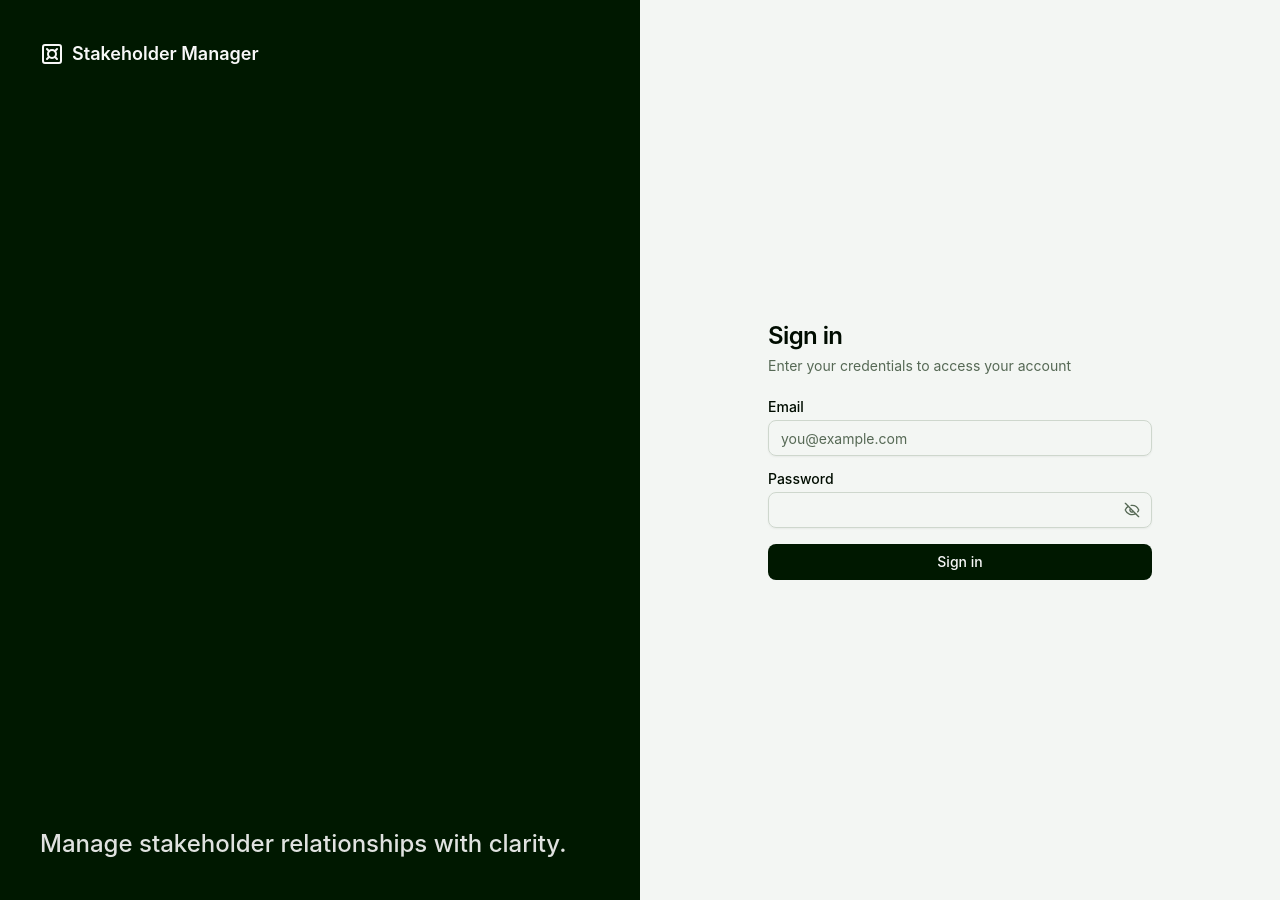
it: LoginPage › displays the error message when login rejects with an Error
Type "bad@example.com" into the field labelled "Email". click: (960, 438)
box: [768,420,1152,456]
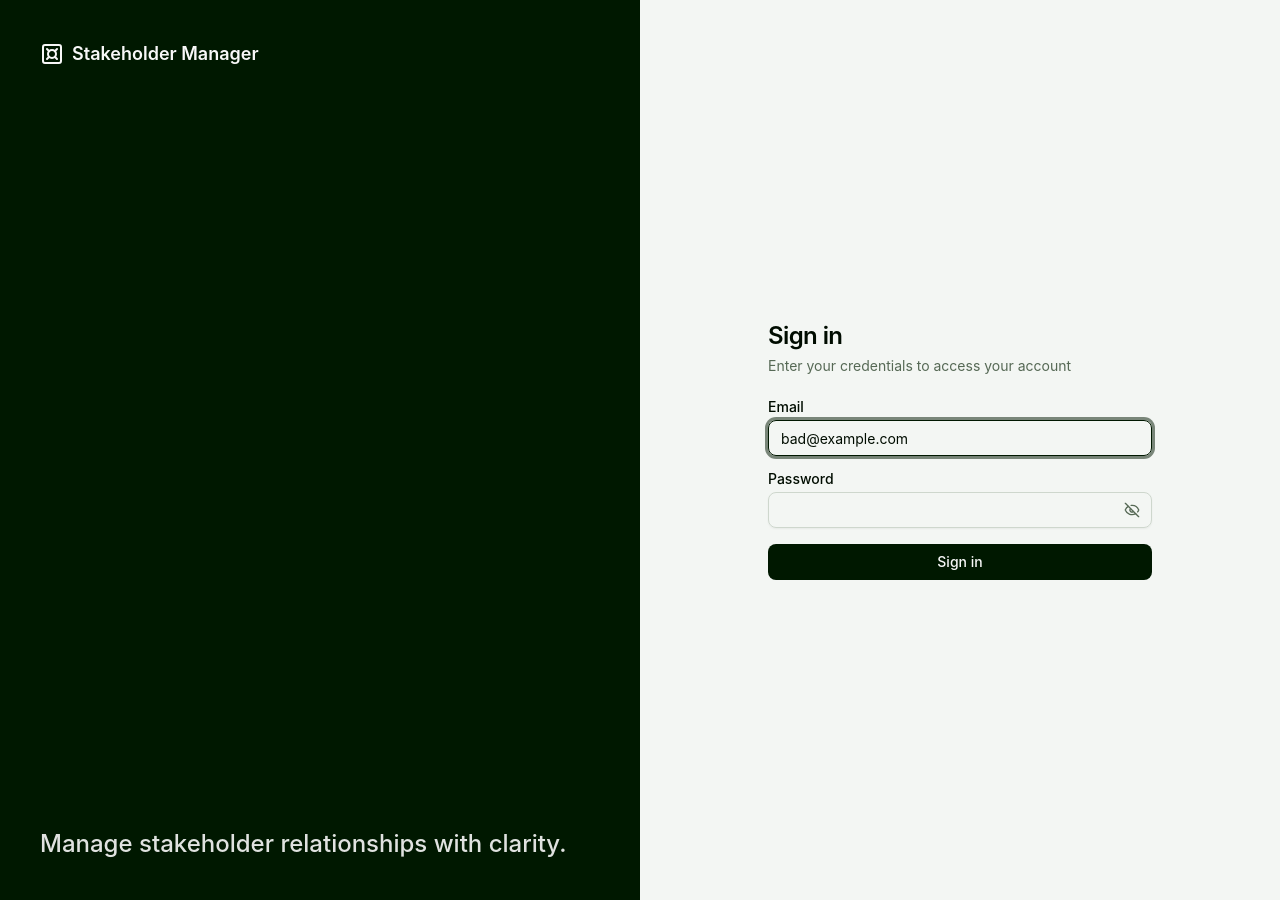
Type "wrong" into the password field labelled "Password". click: (960, 510)
box: [768,492,1152,528]
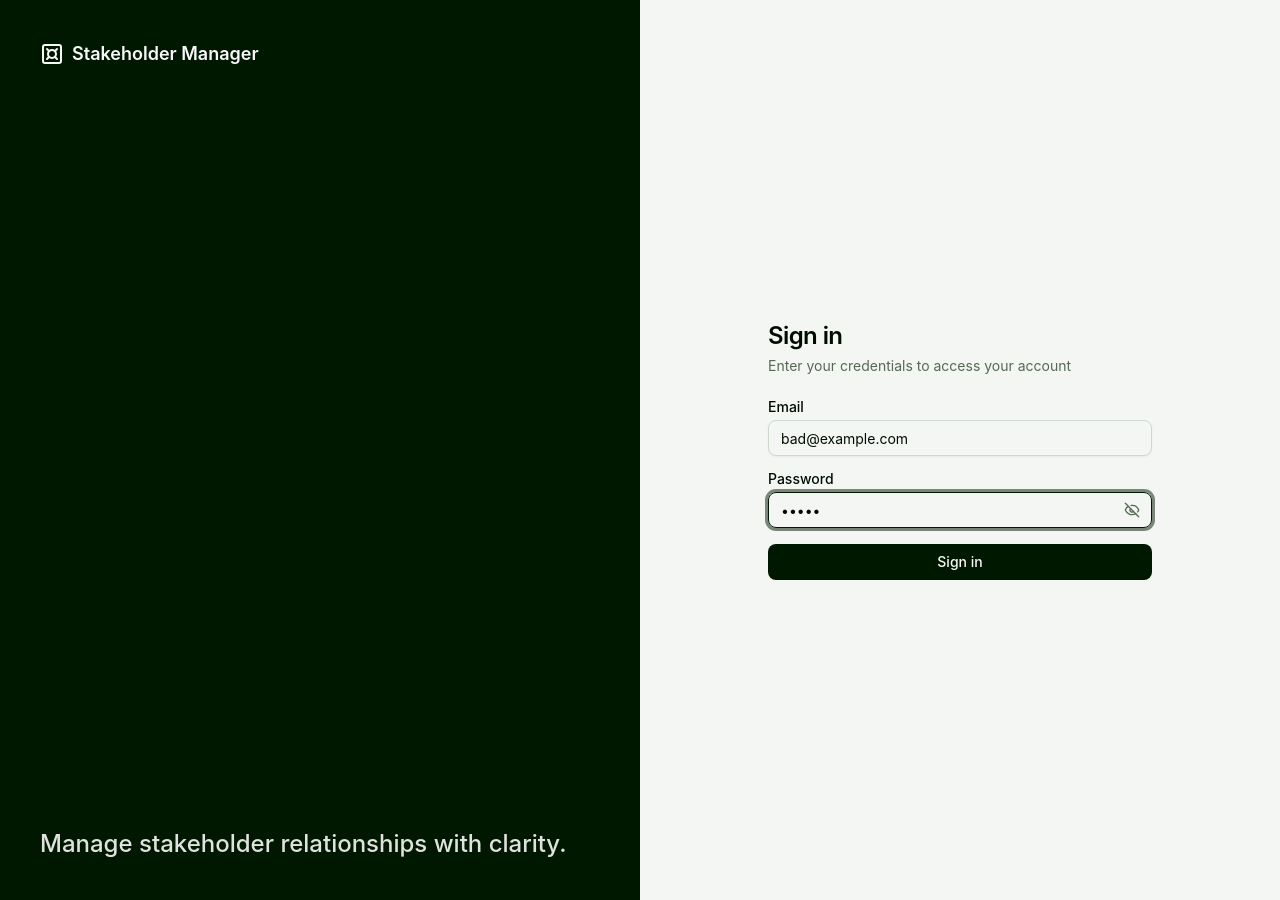
Click the button "Sign in". click: (960, 562)
box: [768,544,1152,580]
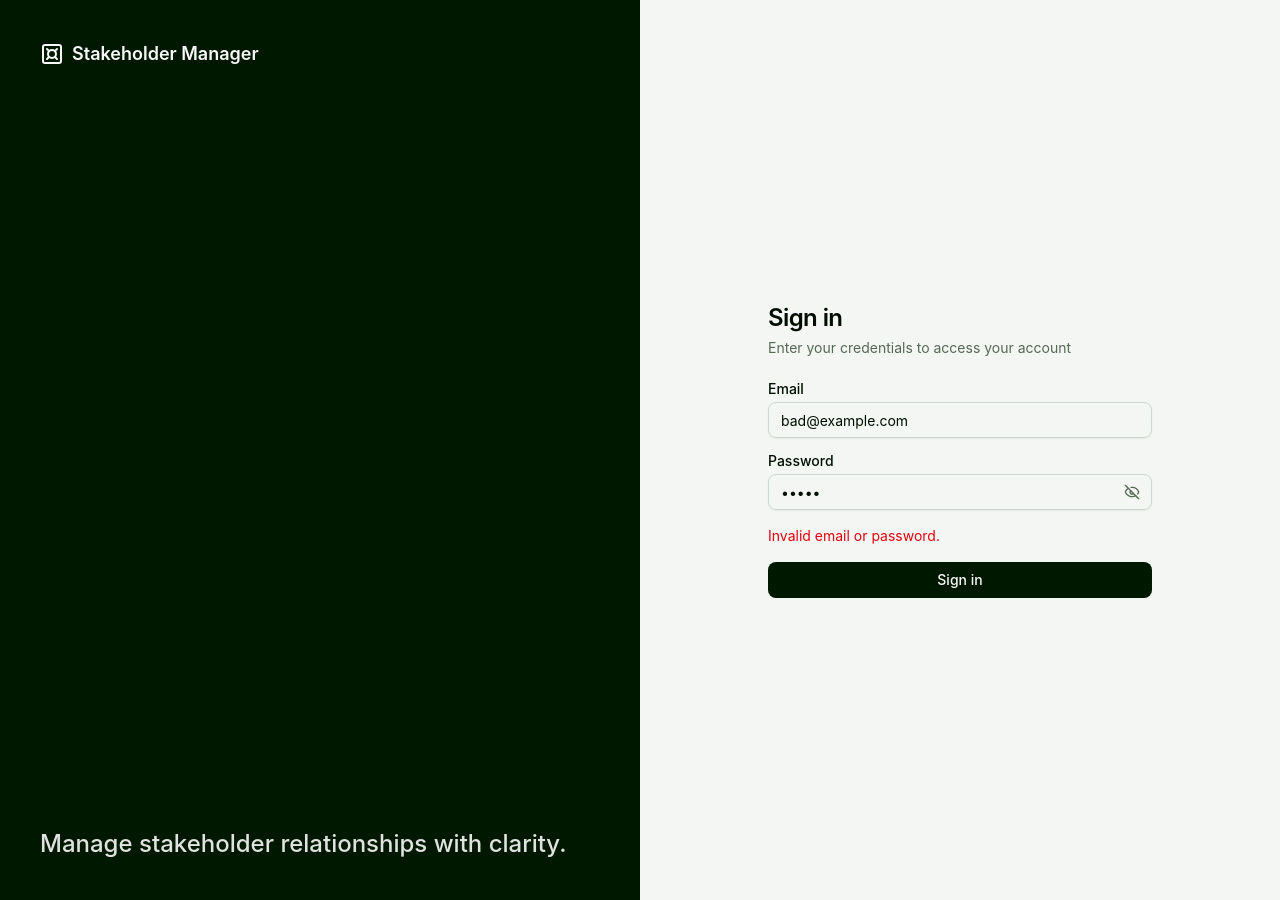
Now the text "Invalid email or password." is shown, box [768,527,940,544]
